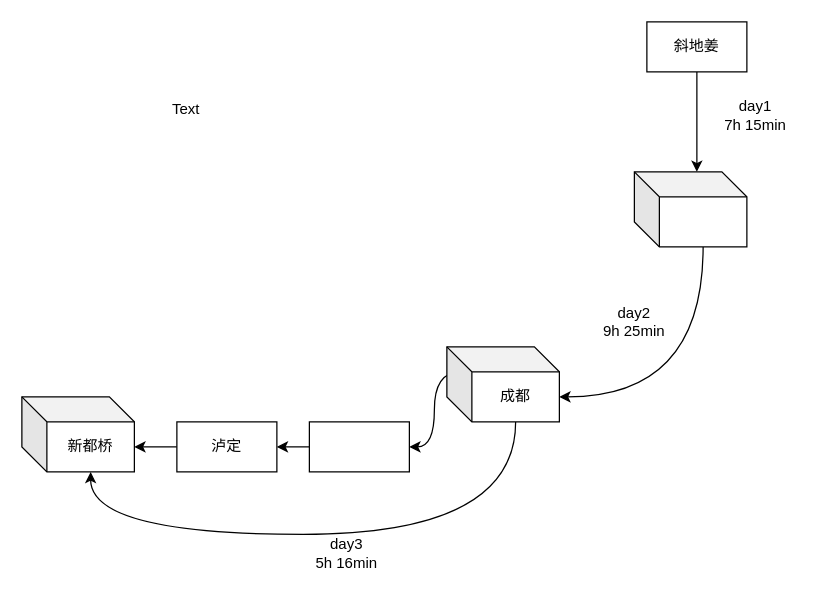
The diagram is 815 pixels wide and 593 high, and some of its shapes have lost their labels. The shapes that lost their labels are listed below. From the top down, each one's centre as x and y in pixels, then its label:
At [690,209]: "西安".
At [358,446]: "雅安".
